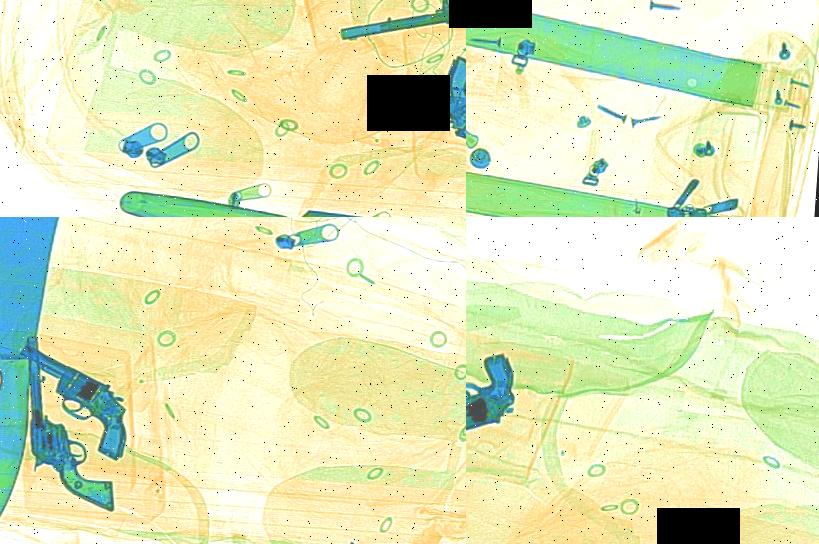Gun: (0, 334, 170, 464), (14, 330, 124, 512), (393, 47, 466, 177), (309, 0, 466, 56), (466, 340, 544, 452)
Knife: (0, 217, 68, 523), (112, 181, 466, 217)
